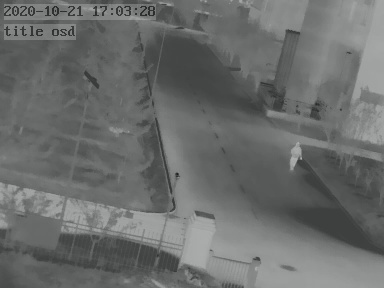person: (290, 141, 302, 171)
